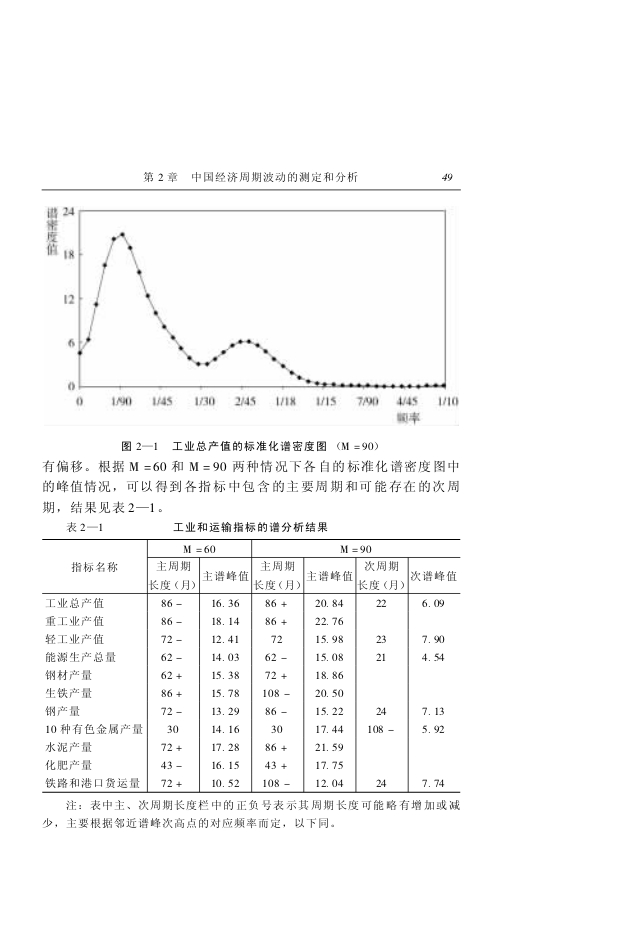table: (42, 539, 460, 793)
